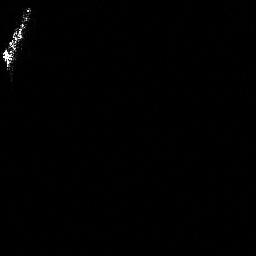ship: (1, 3, 35, 80)
